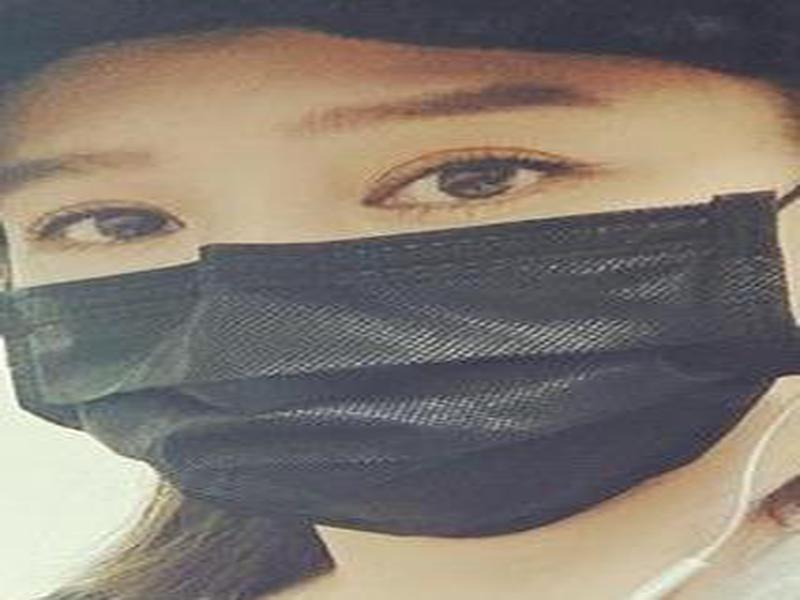with_mask: (1, 31, 798, 544)
